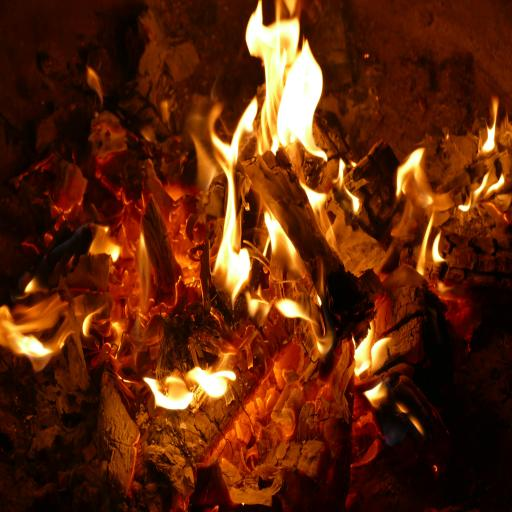campfire: (4, 0, 512, 507)
